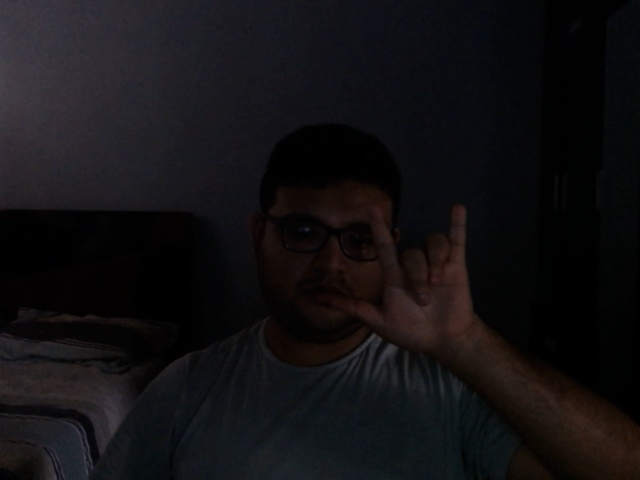I love you: (334, 202, 489, 357)
